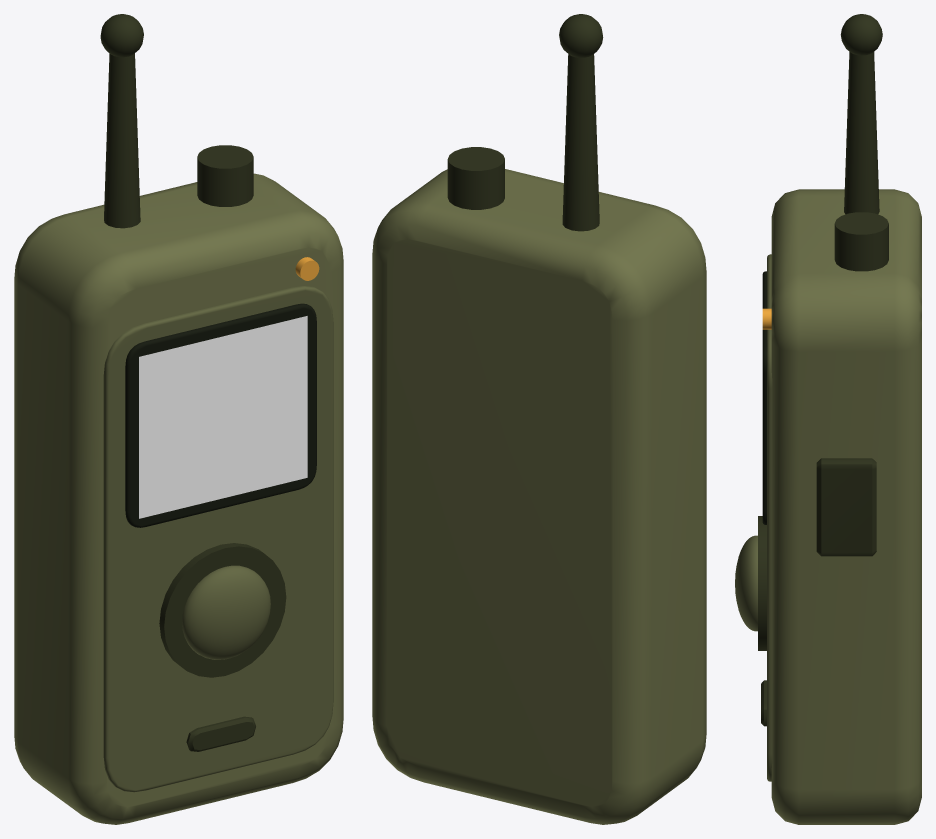
File: radio.glb
3 views of the same model, side by side, from view 1: azimuth 30°, elevation 25°; view 2: azimuth 150°, elevation 25°; view 3: azimuth 270°, elevation 25° (orthographic). The views are drawn at different scales.
Parts seen in each view (by area): view 1: Body, Face, Screen, Knob, Bezel; view 2: Body, Knob; view 3: Body, Knob, Face, Bezel.
Boxes of the visible parts, x1,y1,x2,y2 form: Body: [14, 173, 343, 824]; Face: [103, 286, 333, 792]; Screen: [139, 316, 307, 518]; Knob: [100, 14, 286, 751]; Bezel: [125, 303, 316, 527]; Body: [372, 169, 706, 824]; Knob: [447, 14, 603, 231]; Body: [771, 189, 921, 824]; Knob: [758, 14, 888, 726]; Face: [735, 254, 772, 781]; Bezel: [762, 271, 766, 524].
Size of the model in its own units: 0.209 by 0.544 by 0.1243.
